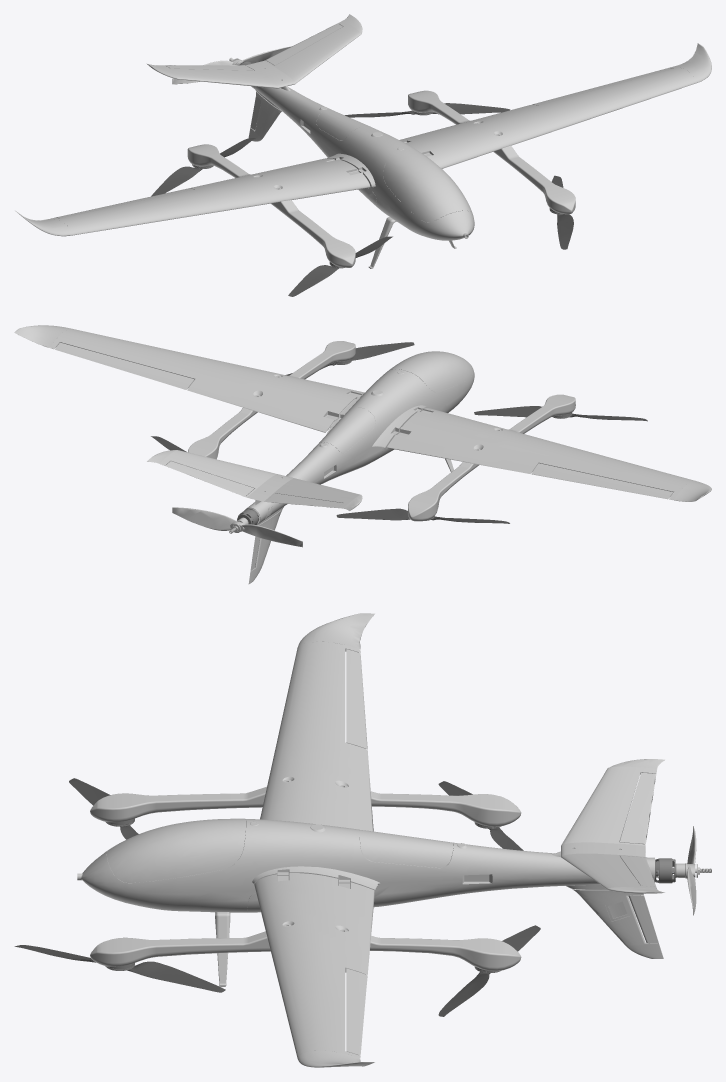
The model's file is xander.glb.
3 views of the same model, one above another, from view 1: azimuth 30°, elevation 25°; view 2: azimuth 150°, elevation 25°; view 3: azimuth 270°, elevation 25° (orthographic). The views are drawn at different scales.
Parts seen in each view (by area): view 1: Body1; view 2: Body1; view 3: Body1.
Boxes of the visible parts, x1,y1,x2,y2 form: Body1: (15,14,711,296); Body1: (14,325,711,584); Body1: (14,613,711,1067).
Size of the model in its own units: 320 by 45.02 by 210.
1 material, 1 textured.
